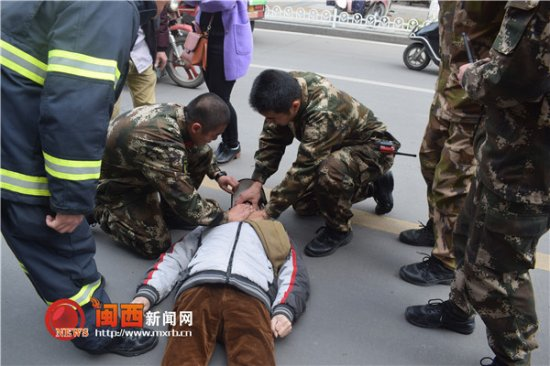fall: (125, 174, 321, 358)
